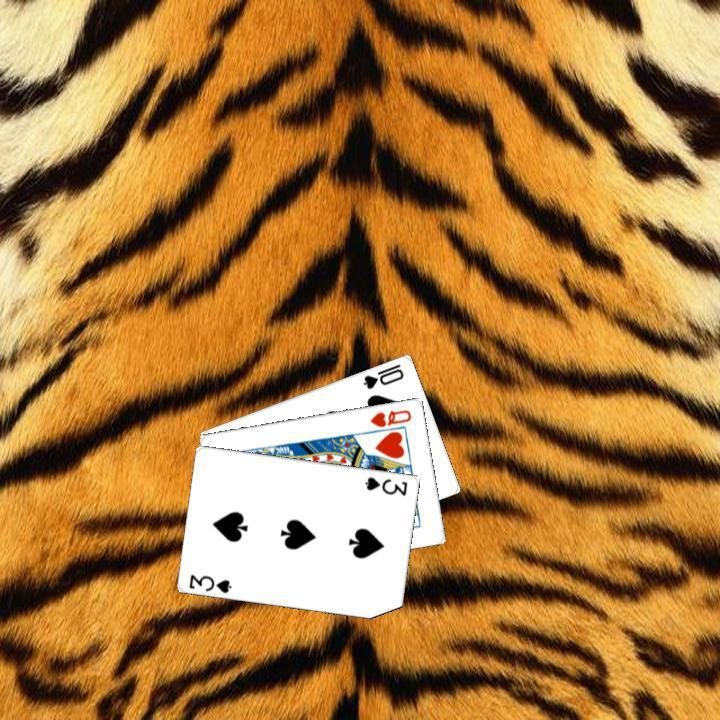10: (359, 359, 406, 391)
3: (361, 472, 410, 497), (185, 570, 234, 595)
Q: (366, 405, 414, 429)
